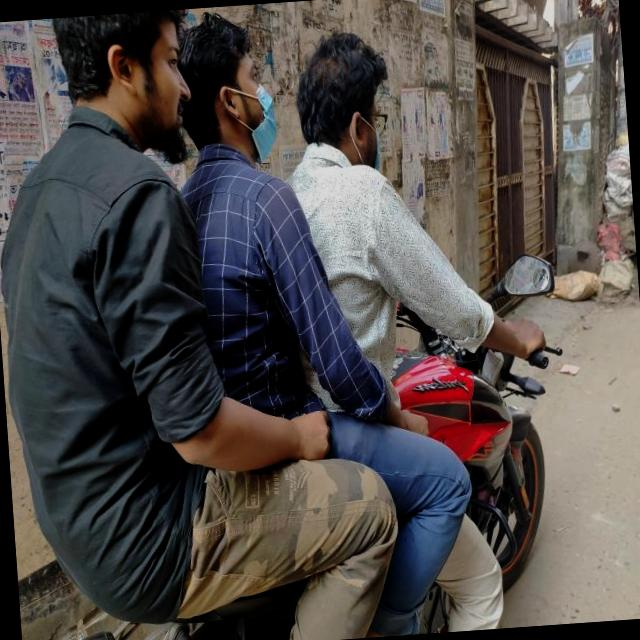motorcycle: (26, 253, 588, 640)
person: (0, 5, 269, 640), (281, 14, 519, 586), (162, 5, 375, 614)
rider_region: (0, 0, 581, 640)
